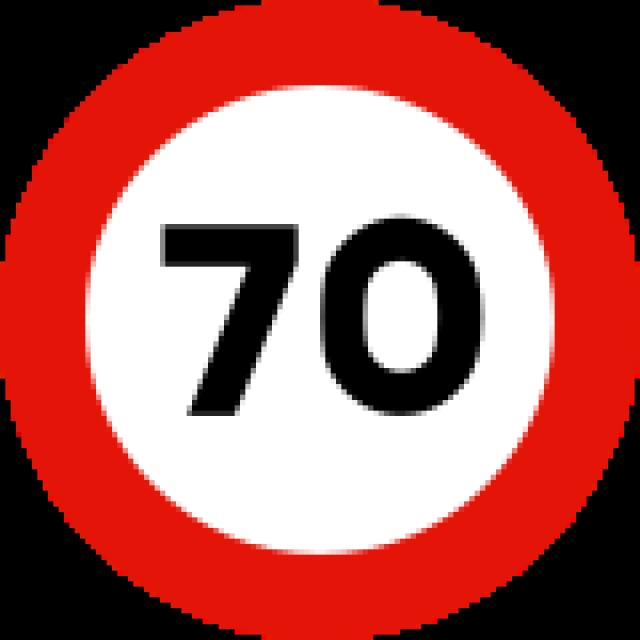Speed Limit -70-: (142, 197, 506, 437)
